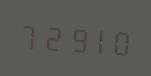nine: (64, 19, 86, 56)
one: (87, 20, 109, 58)
seven: (18, 16, 40, 53)
two: (41, 17, 63, 55)
zero: (110, 22, 132, 59)
